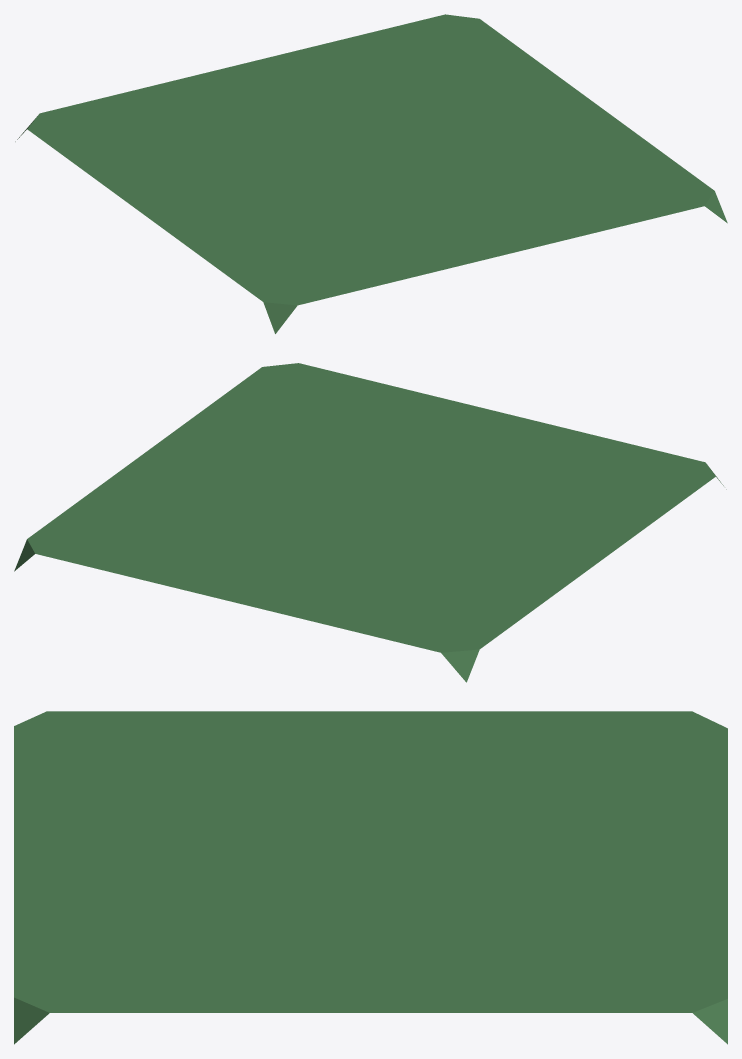
The model's file is Grass_4_Interior_Corner.fbx.
3 views of the same model, one above another, from view 1: azimuth 30°, elevation 25°; view 2: azimuth 150°, elevation 25°; view 3: azimuth 270°, elevation 25° (orthographic). The views are drawn at different scales.
Visible parts, largest first — view 1: Grass_4_Interior_Corner; view 2: Grass_4_Interior_Corner; view 3: Grass_4_Interior_Corner.
Part boxes in pixels (bbox=[...]): Grass_4_Interior_Corner: bbox=[15, 14, 727, 333]; Grass_4_Interior_Corner: bbox=[14, 363, 726, 682]; Grass_4_Interior_Corner: bbox=[14, 711, 727, 1044].
Size of the model in its own units: 1 by 0.0503 by 1.
